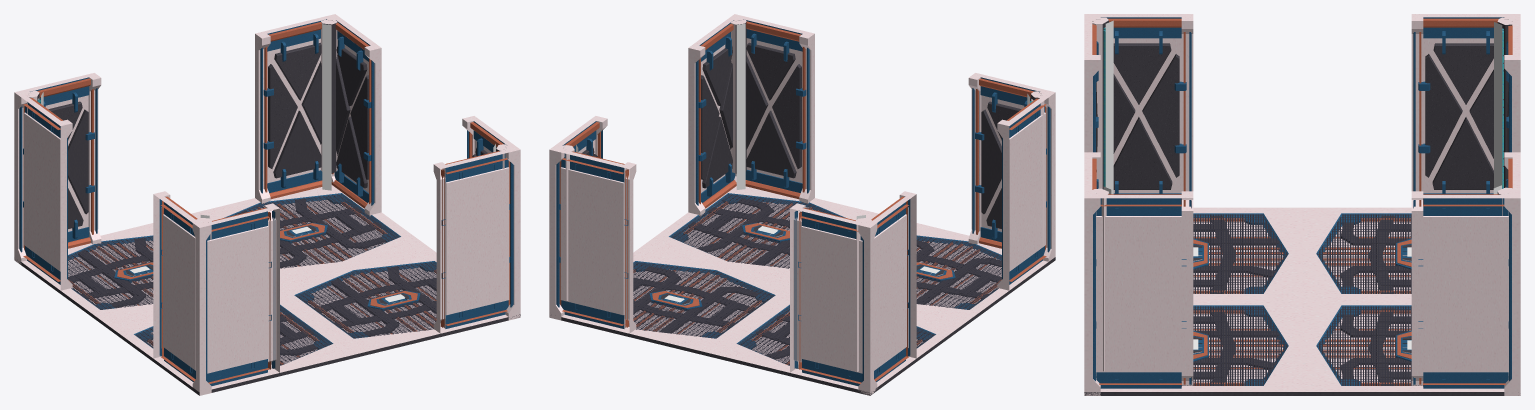
File: Room4.fbx
3 views of the same model, side by side, from view 1: azimuth 30°, elevation 25°; view 2: azimuth 150°, elevation 25°; view 3: azimuth 270°, elevation 25° (orthographic). The views are drawn at different scales.
Visible parts, largest first — view 1: MeshBaker___60_00___30_00___30_00__mesh_mesh, AreaLight__5_; view 2: MeshBaker___60_00___30_00___30_00__mesh_mesh, AreaLight__07_, AreaLight__08_; view 3: MeshBaker___60_00___30_00___30_00__mesh_mesh, AreaLight__6_, AreaLight__22_.
Part boxes in pixels (x1=…): MeshBaker___60_00___30_00___30_00__mesh_mesh: x1=14, y1=14, x2=520, y2=395; AreaLight__5_: x1=322, y1=24, x2=331, y2=190; MeshBaker___60_00___30_00___30_00__mesh_mesh: x1=549, y1=14, x2=1055, y2=395; AreaLight__07_: x1=736, y1=24, x2=745, y2=189; AreaLight__08_: x1=736, y1=24, x2=745, y2=189; MeshBaker___60_00___30_00___30_00__mesh_mesh: x1=1084, y1=14, x2=1520, y2=395; AreaLight__6_: x1=1106, y1=21, x2=1113, y2=194; AreaLight__22_: x1=1494, y1=22, x2=1501, y2=188.
Bounding box in the file's own units: 800 × 402 × 800.
